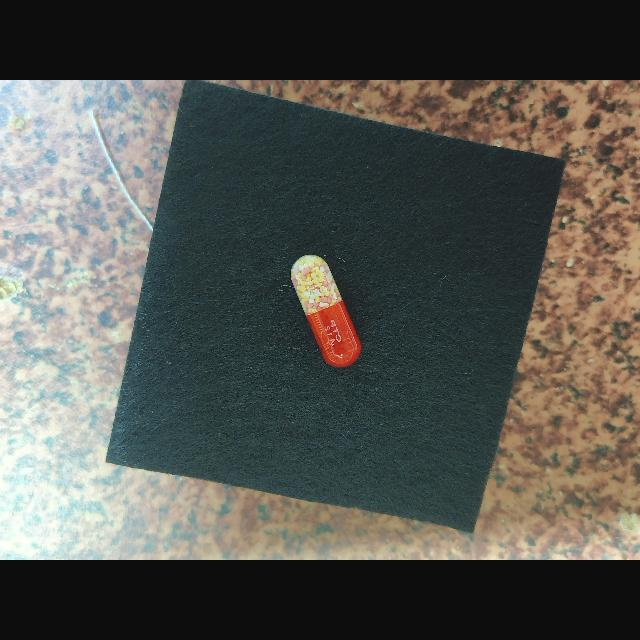Intact Capsule: (291, 255, 361, 368)
